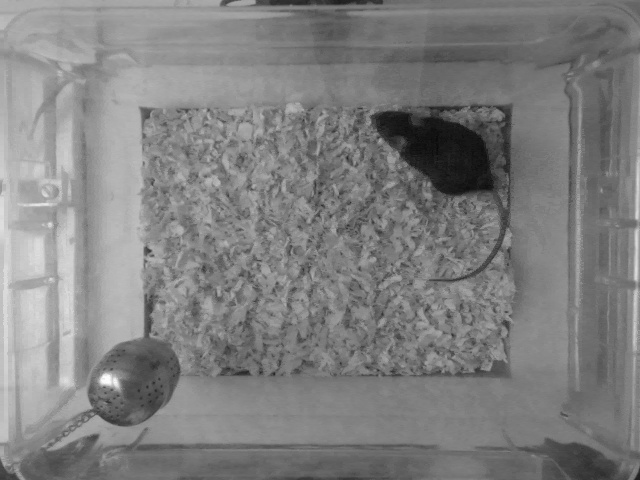mice: (368, 105, 507, 287)
